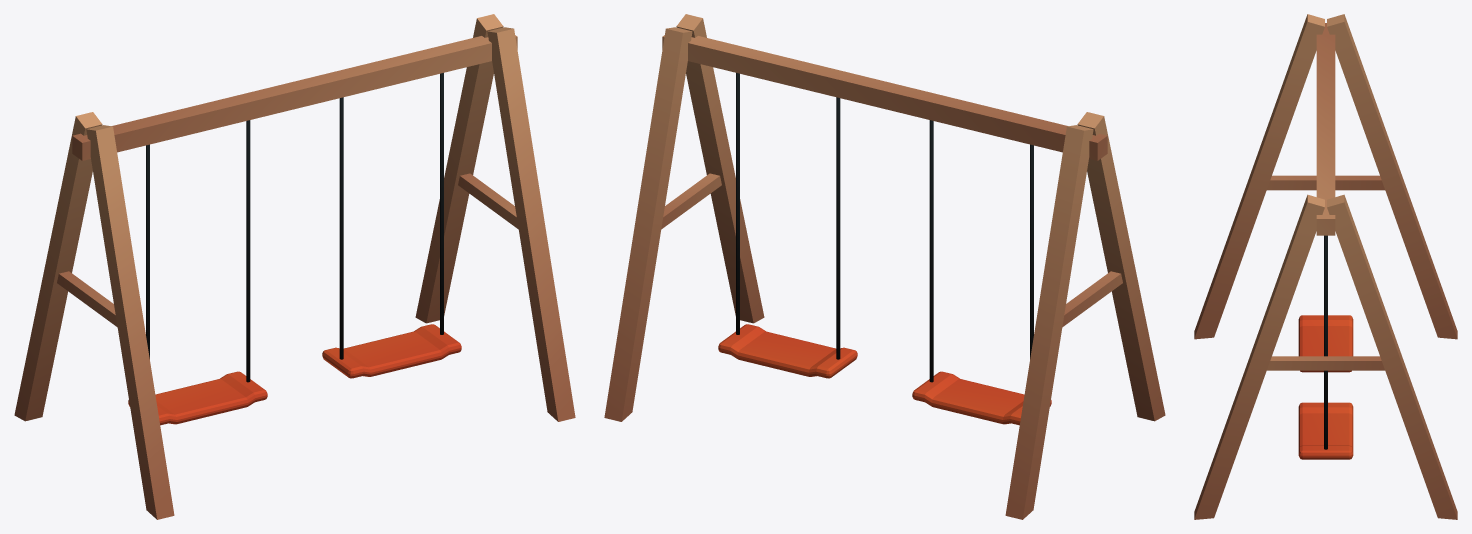
The model's file is COLUMPIO.fbx.
3 renders of one model, left to right at view 1: azimuth 30°, elevation 25°; view 2: azimuth 150°, elevation 25°; view 3: azimuth 270°, elevation 25°, orthographic. The views are drawn at different scales.
Visible parts, largest first — view 1: Columpio; view 2: Columpio; view 3: Columpio.
Boxes of the visible parts, left/top/right/bottom form: Columpio: left=14, top=14, right=575, bottom=519; Columpio: left=604, top=14, right=1165, bottom=519; Columpio: left=1194, top=14, right=1457, bottom=519.
Bounding box in the file's own units: 663 × 377 × 501.
1 material, 1 textured.
